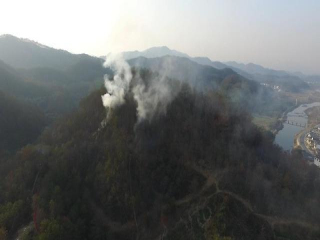smoke: (85, 38, 249, 144)
